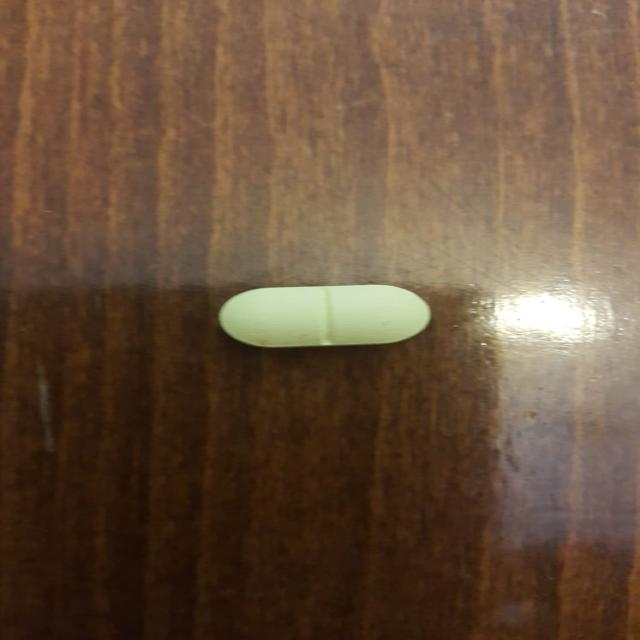pills: (195, 271, 456, 360)
